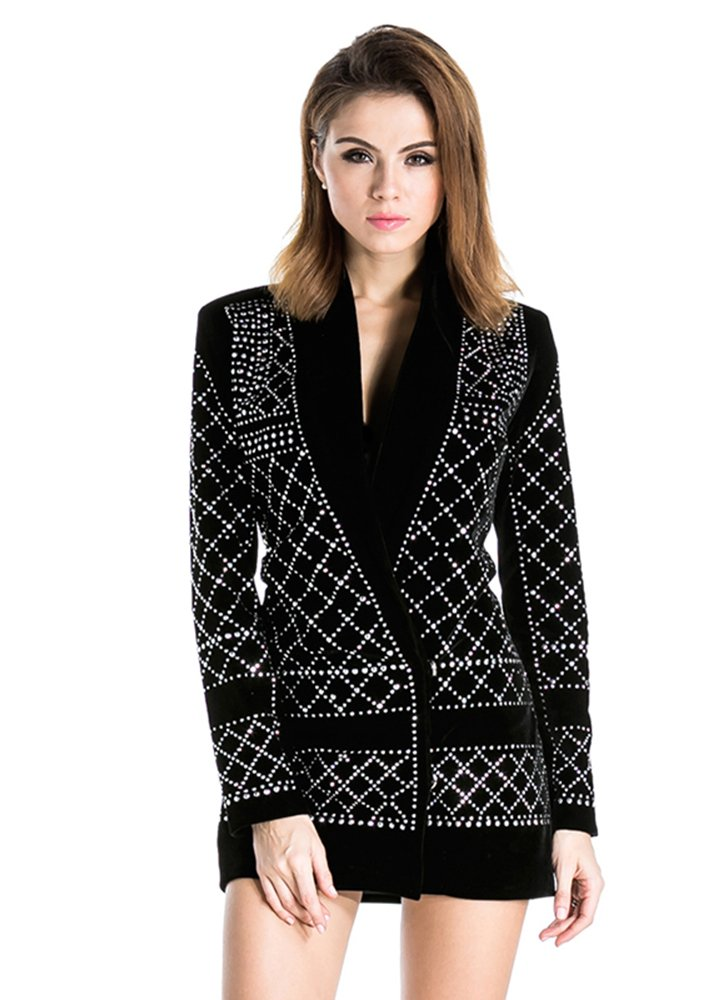F_W_suit jacket: (165, 294, 605, 791)
